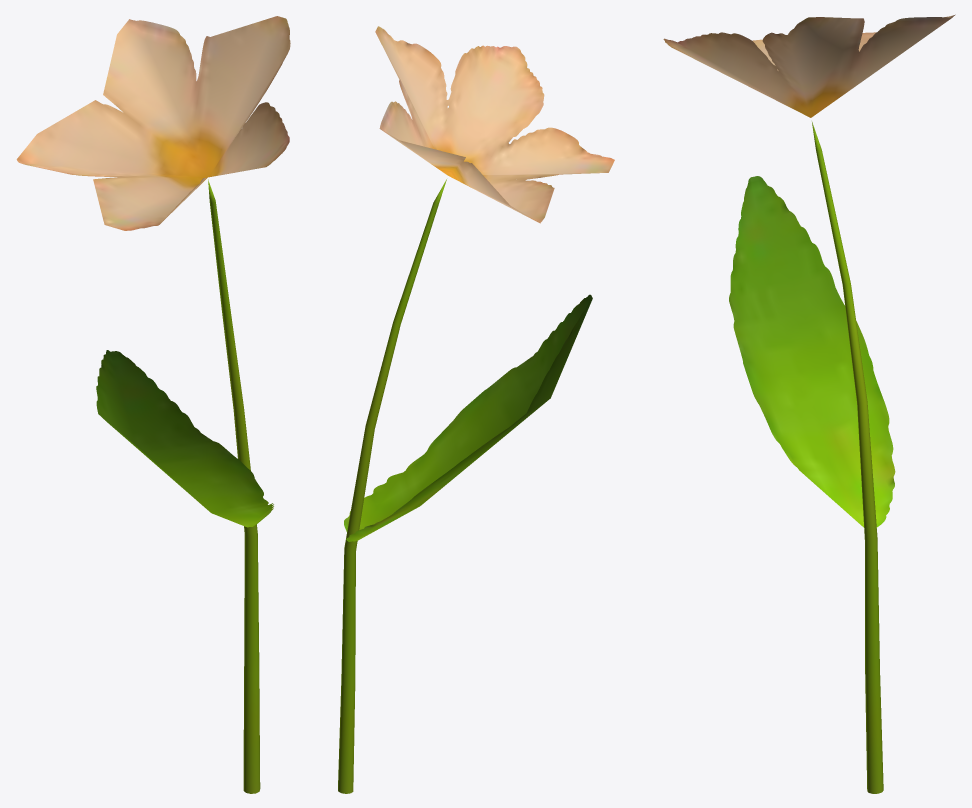
File: flower-1.glb
The picture shows the model from 3 angles, left to right: view 1: azimuth 30°, elevation 25°; view 2: azimuth 150°, elevation 25°; view 3: azimuth 270°, elevation 25°; orthographic projection. The views are drawn at different scales.
Visible parts, largest first — view 1: Flower_1_Single; view 2: Flower_1_Single; view 3: Flower_1_Single.
Boxes of the visible parts, bbox=[...] form: Flower_1_Single: bbox=[16, 16, 290, 793]; Flower_1_Single: bbox=[338, 26, 614, 793]; Flower_1_Single: bbox=[663, 14, 955, 793].
Bounding box in the file's own units: 0.0963 × 0.3 × 0.1079.
Materials: 2 (2 with a texture image).
